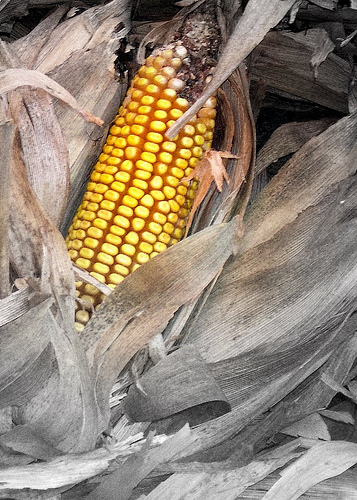corn: (53, 27, 221, 337)
